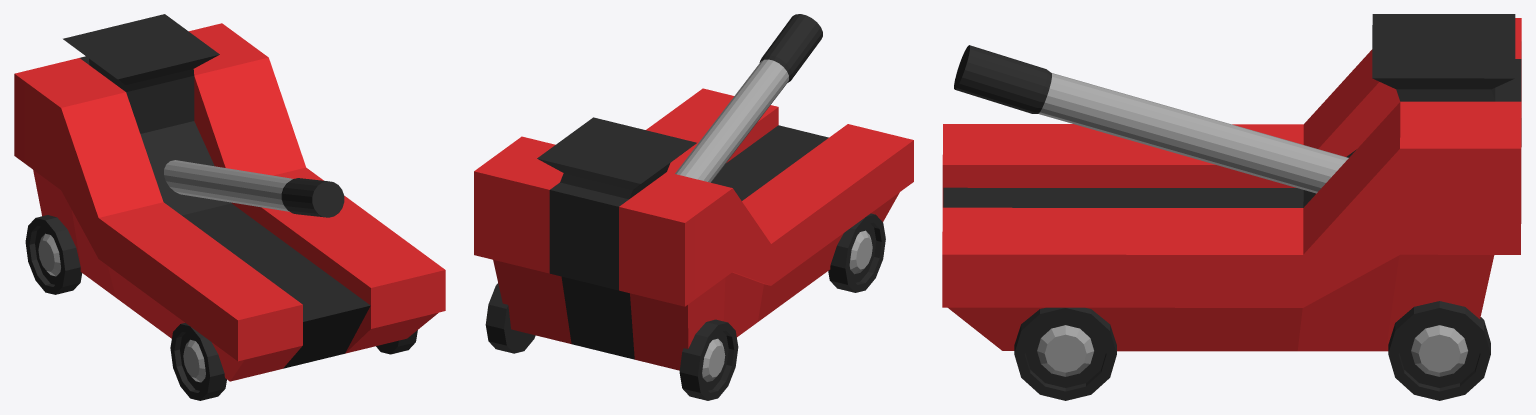
The model's file is Jack.fbx.
3 renders of one model, left to right at view 1: azimuth 30°, elevation 25°; view 2: azimuth 150°, elevation 25°; view 3: azimuth 270°, elevation 25°, orthographic. The views are drawn at different scales.
Parts seen in each view (by area): view 1: JackBase, Plate, Lever, Wheel04, Wheel02, Wheel01; view 2: JackBase, Plate, Lever, Wheel04, Wheel02, Wheel03; view 3: JackBase, Lever, Plate, Wheel03, Wheel01.
Boxes of the visible parts, <box> form: JackBase: <box>14,23,445,381</box>; Plate: <box>63,14,219,92</box>; Lever: <box>164,160,344,217</box>; Wheel04: <box>25,215,82,294</box>; Wheel02: <box>170,323,226,400</box>; Wheel01: <box>376,330,417,354</box>; JackBase: <box>474,88,913,370</box>; Plate: <box>537,117,696,199</box>; Lever: <box>675,14,822,182</box>; Wheel04: <box>679,319,738,400</box>; Wheel02: <box>828,213,885,292</box>; Wheel03: <box>485,283,535,353</box>; JackBase: <box>942,18,1521,351</box>; Lever: <box>954,45,1348,193</box>; Plate: <box>1372,14,1515,101</box>; Wheel03: <box>1388,301,1490,400</box>; Wheel01: <box>1014,307,1116,400</box>.
Bounding box in the file's own units: 54.54 × 55.21 × 102.
